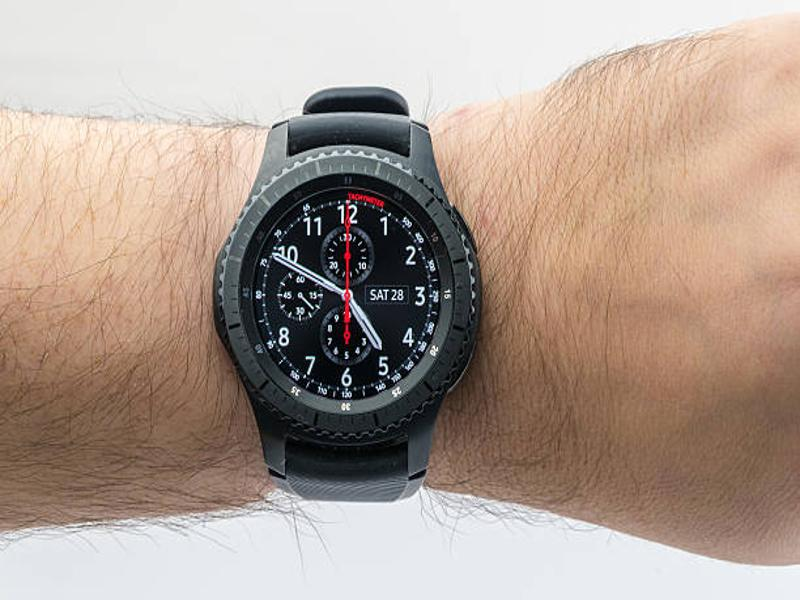watch: (207, 80, 484, 513)
